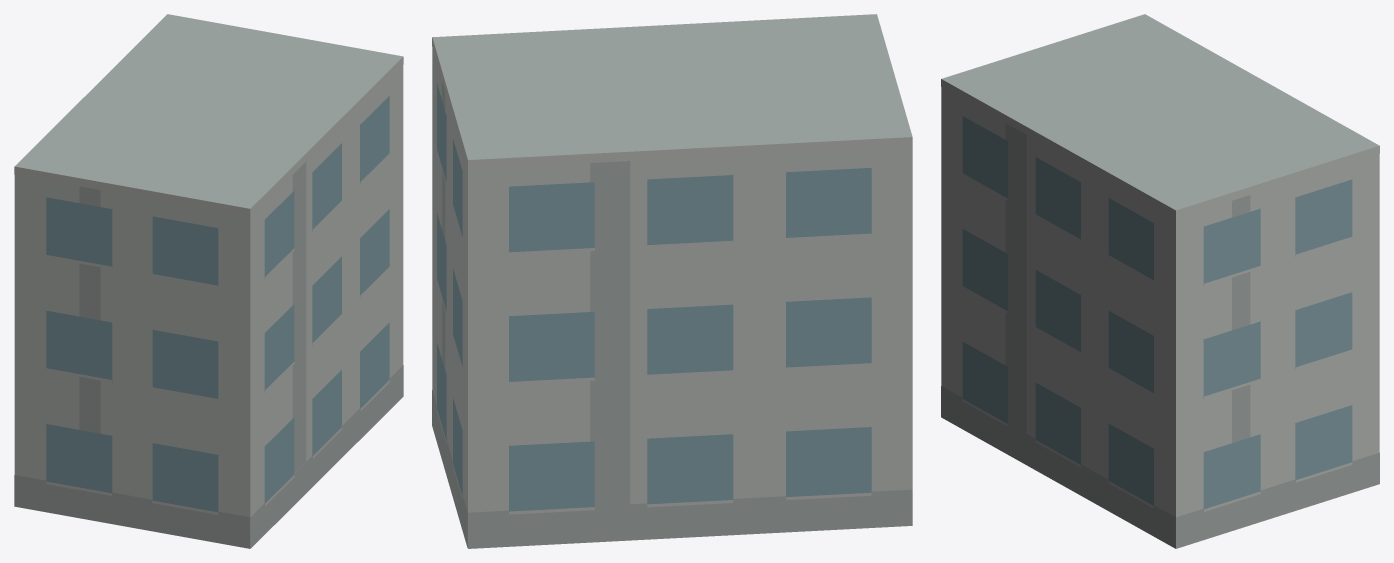
The model's file is residential-c6d568cd-0942-468e-b800-05613d1e92c7.glb.
3 views of the same model, side by side, from view 1: azimuth 30°, elevation 25°; view 2: azimuth 150°, elevation 25°; view 3: azimuth 270°, elevation 25° (orthographic). The views are drawn at different scales.
Visible parts, largest first — view 1: residential-c6d568cd-0942-468e-b800-05613d1e92c7.tmp; view 2: residential-c6d568cd-0942-468e-b800-05613d1e92c7.tmp; view 3: residential-c6d568cd-0942-468e-b800-05613d1e92c7.tmp.
Boxes of the visible parts, bbox=[...] form: residential-c6d568cd-0942-468e-b800-05613d1e92c7.tmp: bbox=[14, 14, 403, 548]; residential-c6d568cd-0942-468e-b800-05613d1e92c7.tmp: bbox=[432, 14, 912, 548]; residential-c6d568cd-0942-468e-b800-05613d1e92c7.tmp: bbox=[941, 14, 1379, 548].
Size of the model in its own units: 12.71 by 10.2 by 11.99.
